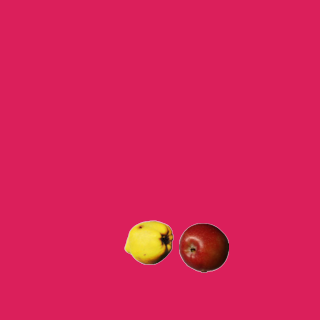Apple Braeburn: (178, 222, 228, 272)
Quince: (123, 217, 173, 267)
